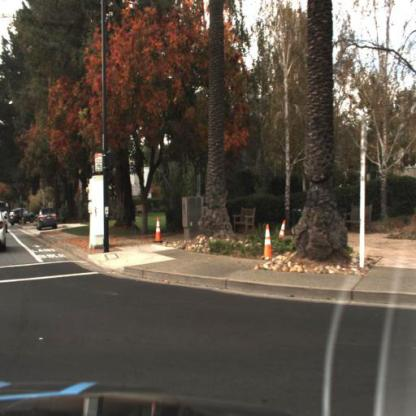car: (36, 206, 60, 233), (10, 206, 36, 229), (1, 198, 9, 264)
